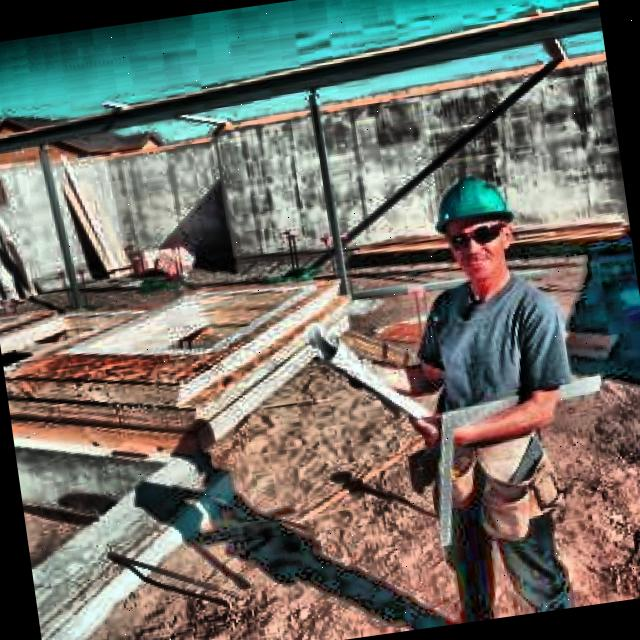helmet: (433, 168, 523, 288)
